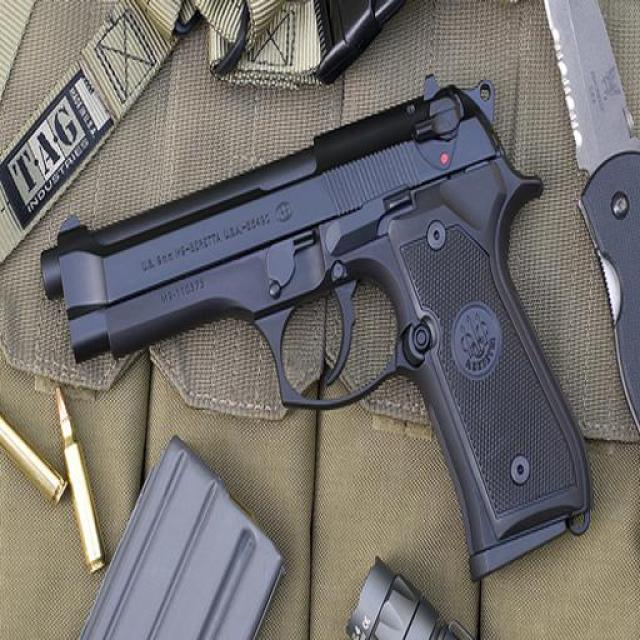pistol: (40, 71, 590, 575)
